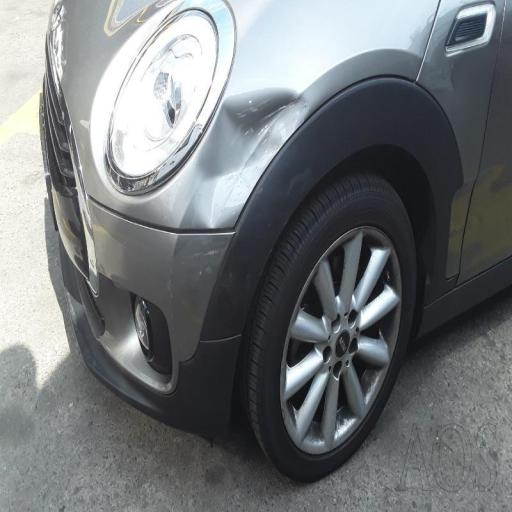dent: (166, 17, 302, 255)
